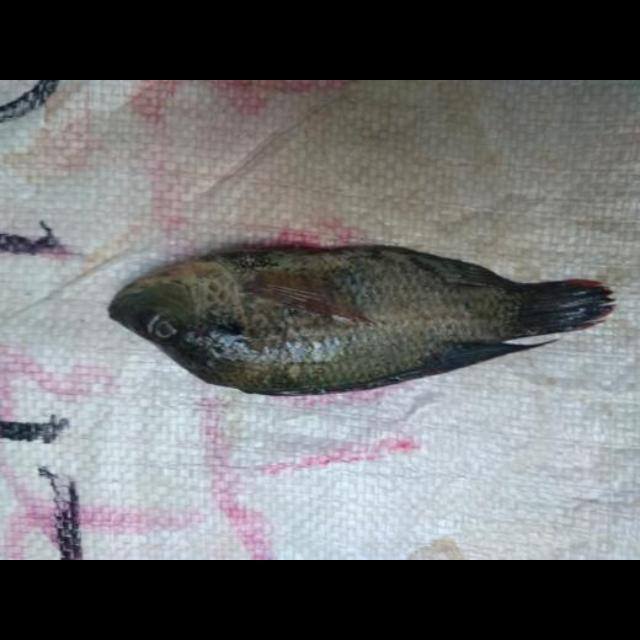Tilapia: (109, 244, 616, 394)
